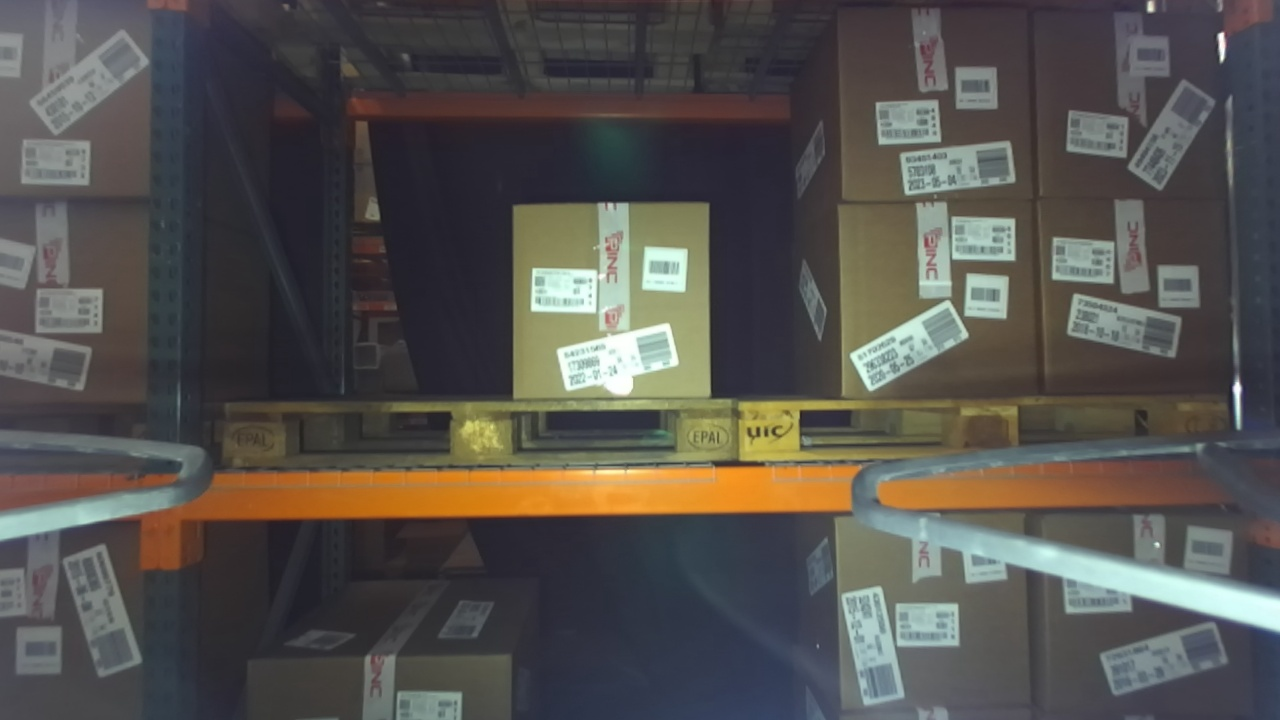box: (1024, 488, 1280, 719), (490, 182, 737, 415), (821, 176, 1056, 408), (808, 2, 1054, 223), (806, 501, 1053, 720), (1022, 181, 1252, 414), (1015, 1, 1250, 229)
